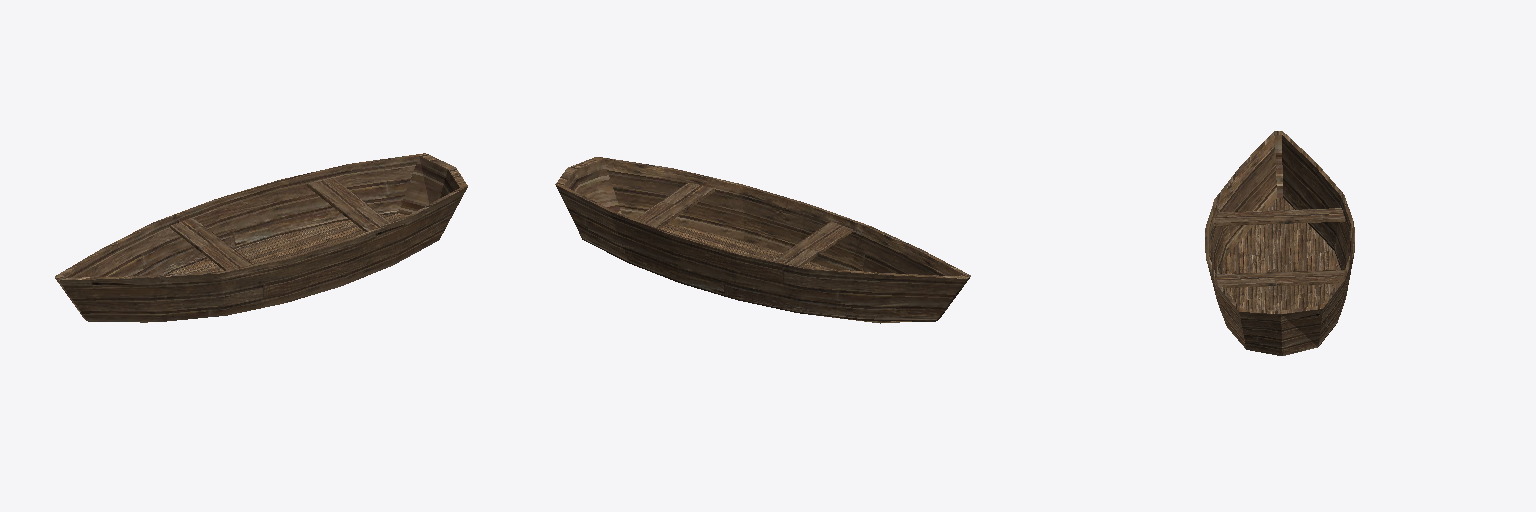
3 views of the same model, side by side, from view 1: azimuth 30°, elevation 25°; view 2: azimuth 150°, elevation 25°; view 3: azimuth 270°, elevation 25° (orthographic).
Visible parts, largest first — view 1: Cube; view 2: Cube; view 3: Cube.
Boxes of the visible parts, x1,y1,x2,y2 form: Cube: [55, 153, 467, 322]; Cube: [555, 157, 970, 323]; Cube: [1205, 131, 1354, 355].
Size of the model in its own units: 1.04 by 0.2012 by 0.3372.
2 materials, 1 textured.